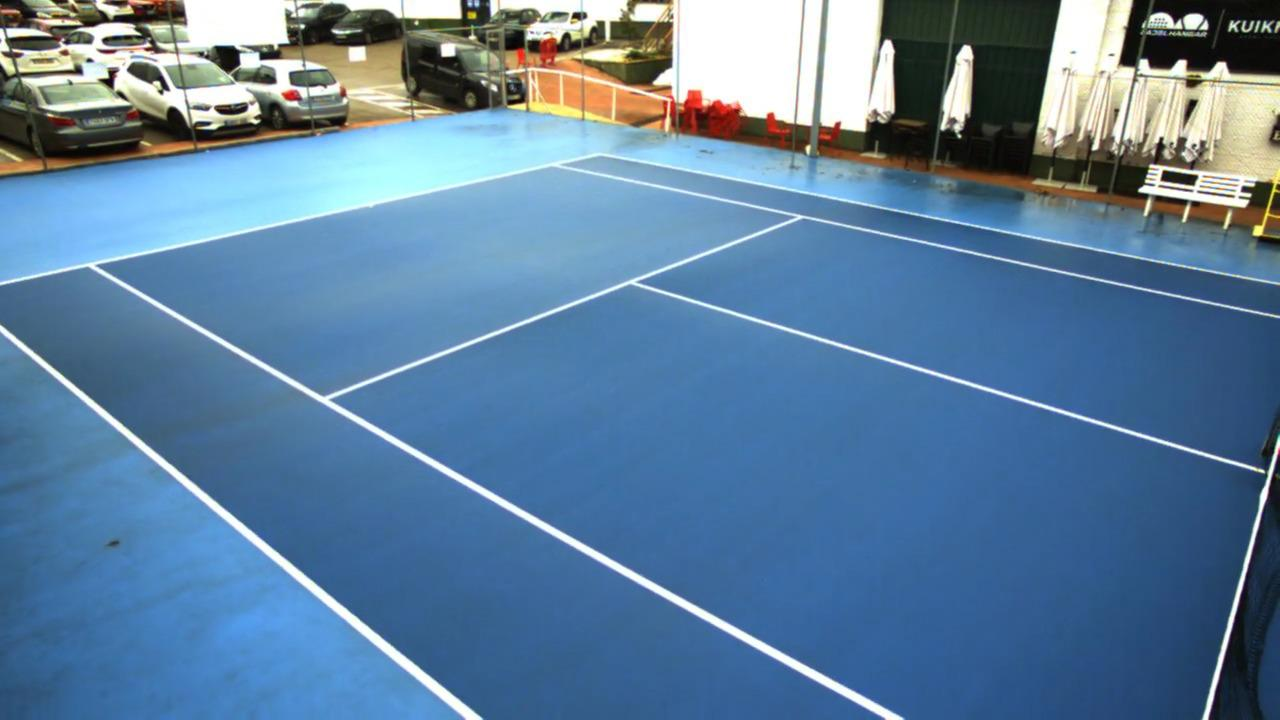cancha_tenis: (89, 162, 1280, 720)
point_f1: (79, 254, 110, 278)
point_f2: (545, 157, 571, 175)
point_fc1: (364, 197, 380, 214)
point_i1: (308, 383, 343, 412)
point_i2: (777, 206, 813, 229)
point_ic1: (616, 268, 653, 294)
